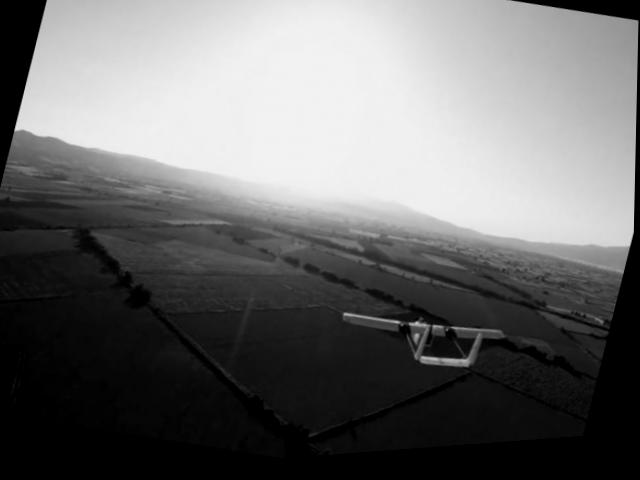hedef: (328, 289, 514, 404)
